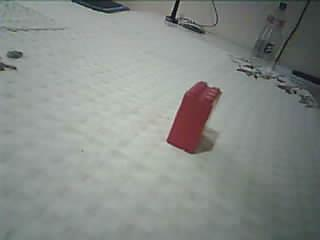lego: (165, 79, 222, 154)
